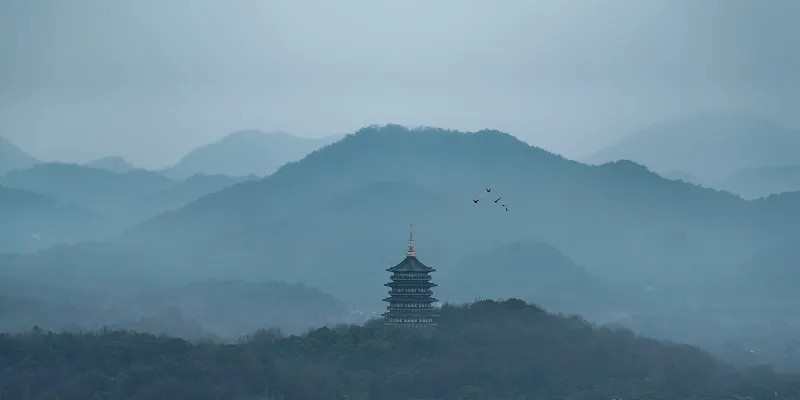Leifeng: (380, 222, 445, 339)
